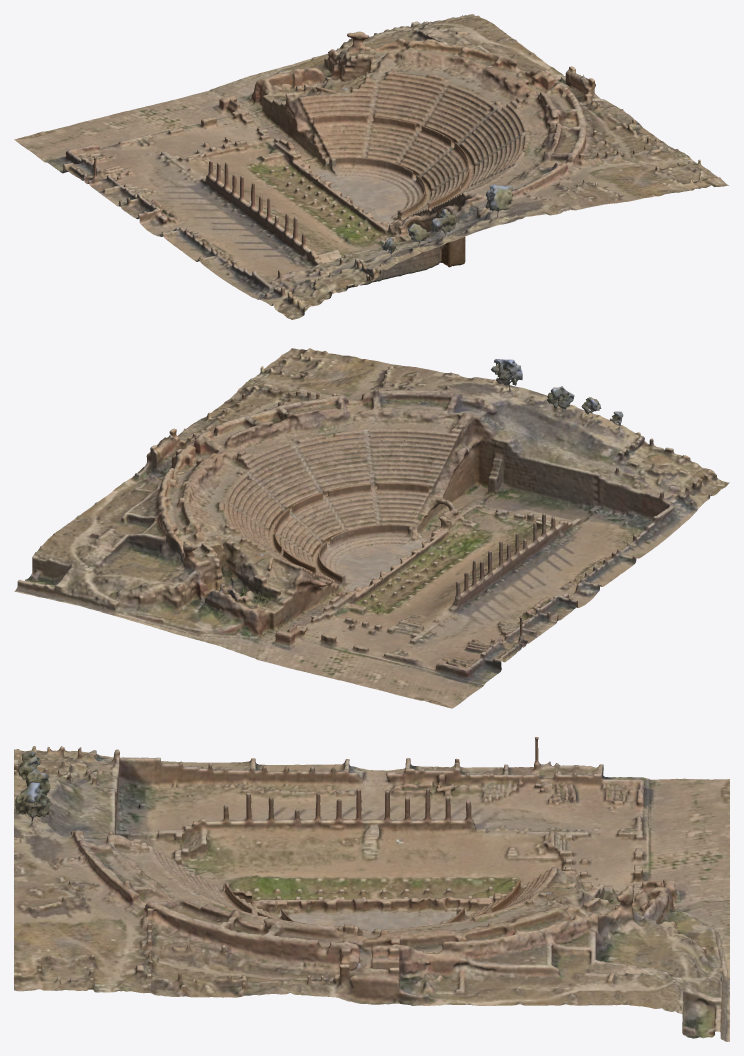
3 renders of one model, top to bottom at view 1: azimuth 30°, elevation 25°; view 2: azimuth 150°, elevation 25°; view 3: azimuth 270°, elevation 25°, orthographic. The views are drawn at different scales.
Parts seen in each view (by area): view 1: DZA_001_M5_Theatre; view 2: DZA_001_M5_Theatre; view 3: DZA_001_M5_Theatre.
Part boxes in pixels (bbox=[...]): DZA_001_M5_Theatre: bbox=[14, 14, 728, 319]; DZA_001_M5_Theatre: bbox=[14, 348, 729, 708]; DZA_001_M5_Theatre: bbox=[14, 737, 729, 1041].
Size of the model in its own units: 69.21 by 16.43 by 75.91.
1 material, 1 textured.
